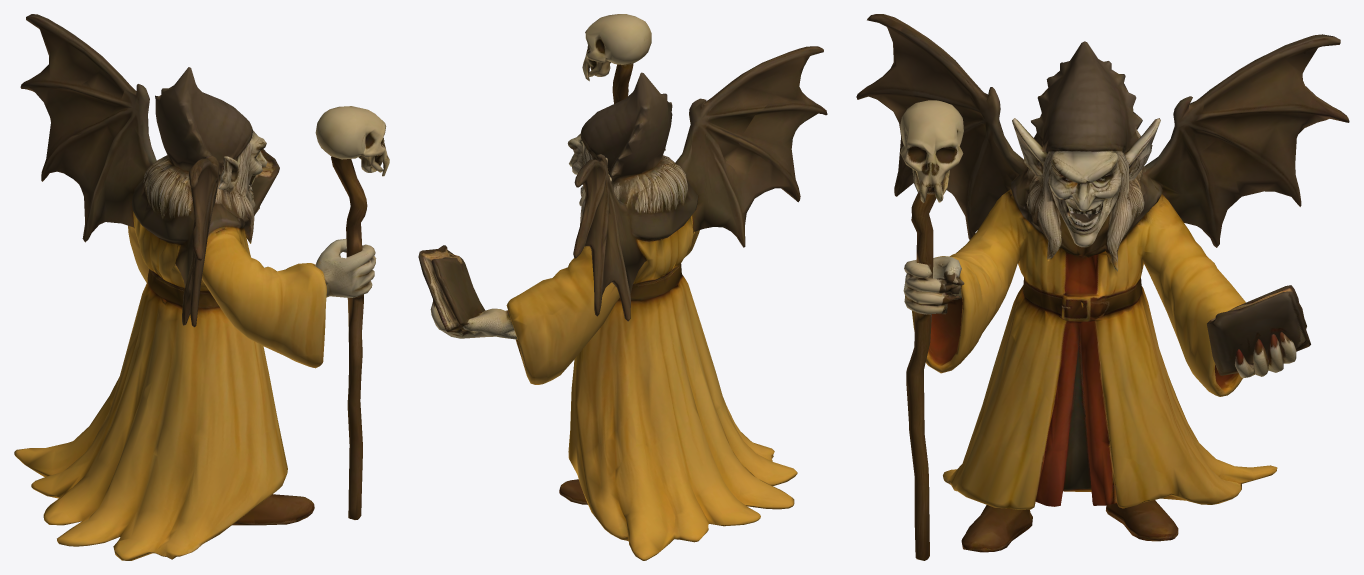
The picture shows the model from 3 angles, left to right: view 1: azimuth 30°, elevation 25°; view 2: azimuth 150°, elevation 25°; view 3: azimuth 270°, elevation 25°; orthographic projection. The views are drawn at different scales.
Visible parts, largest first — view 1: tripo_node_86ed9c45-9232-4548-8281-fe873a4d7fa7; view 2: tripo_node_86ed9c45-9232-4548-8281-fe873a4d7fa7; view 3: tripo_node_86ed9c45-9232-4548-8281-fe873a4d7fa7.
Part boxes in pixels (left/top/right/bottom): tripo_node_86ed9c45-9232-4548-8281-fe873a4d7fa7: left=14, top=14, right=389, bottom=560; tripo_node_86ed9c45-9232-4548-8281-fe873a4d7fa7: left=418, top=14, right=827, bottom=560; tripo_node_86ed9c45-9232-4548-8281-fe873a4d7fa7: left=856, top=14, right=1349, bottom=560.
Size of the model in its own units: 0.7103 by 0.9996 by 0.9265.
1 material, 1 textured.
